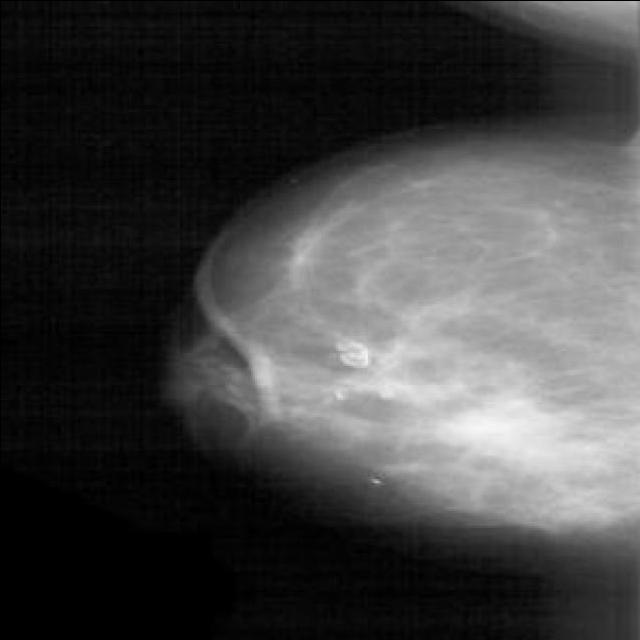tumor: (302, 328, 560, 486)
